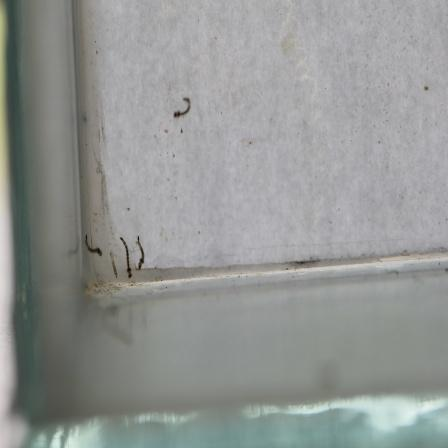Jentik-Nyamuk: (118, 232, 133, 280), (169, 94, 193, 120), (133, 232, 148, 272), (83, 232, 103, 257)
